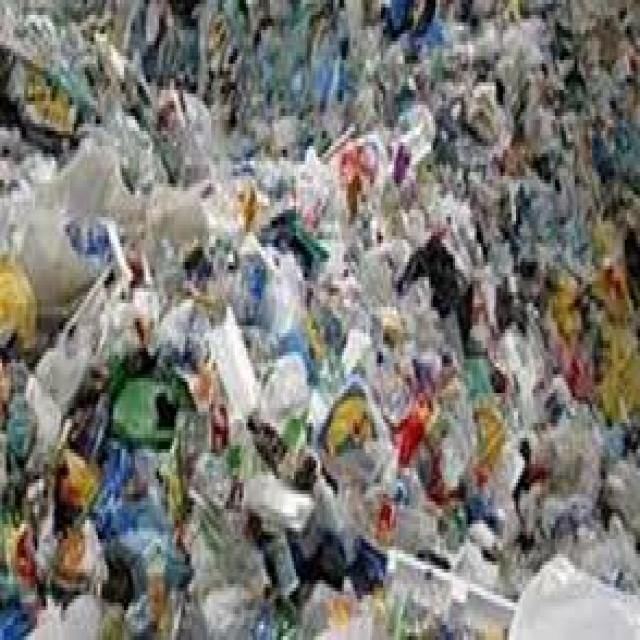plastic: (62, 102, 626, 611)
